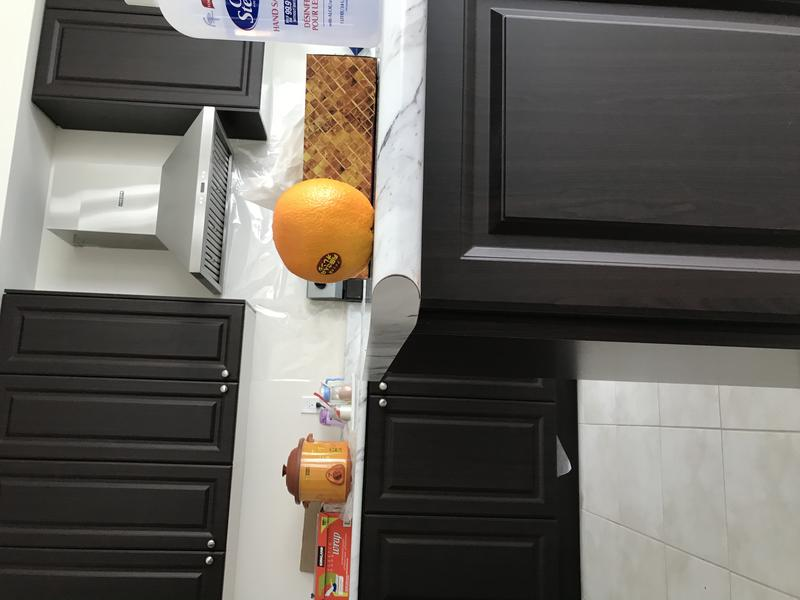orange: (266, 177, 385, 291)
